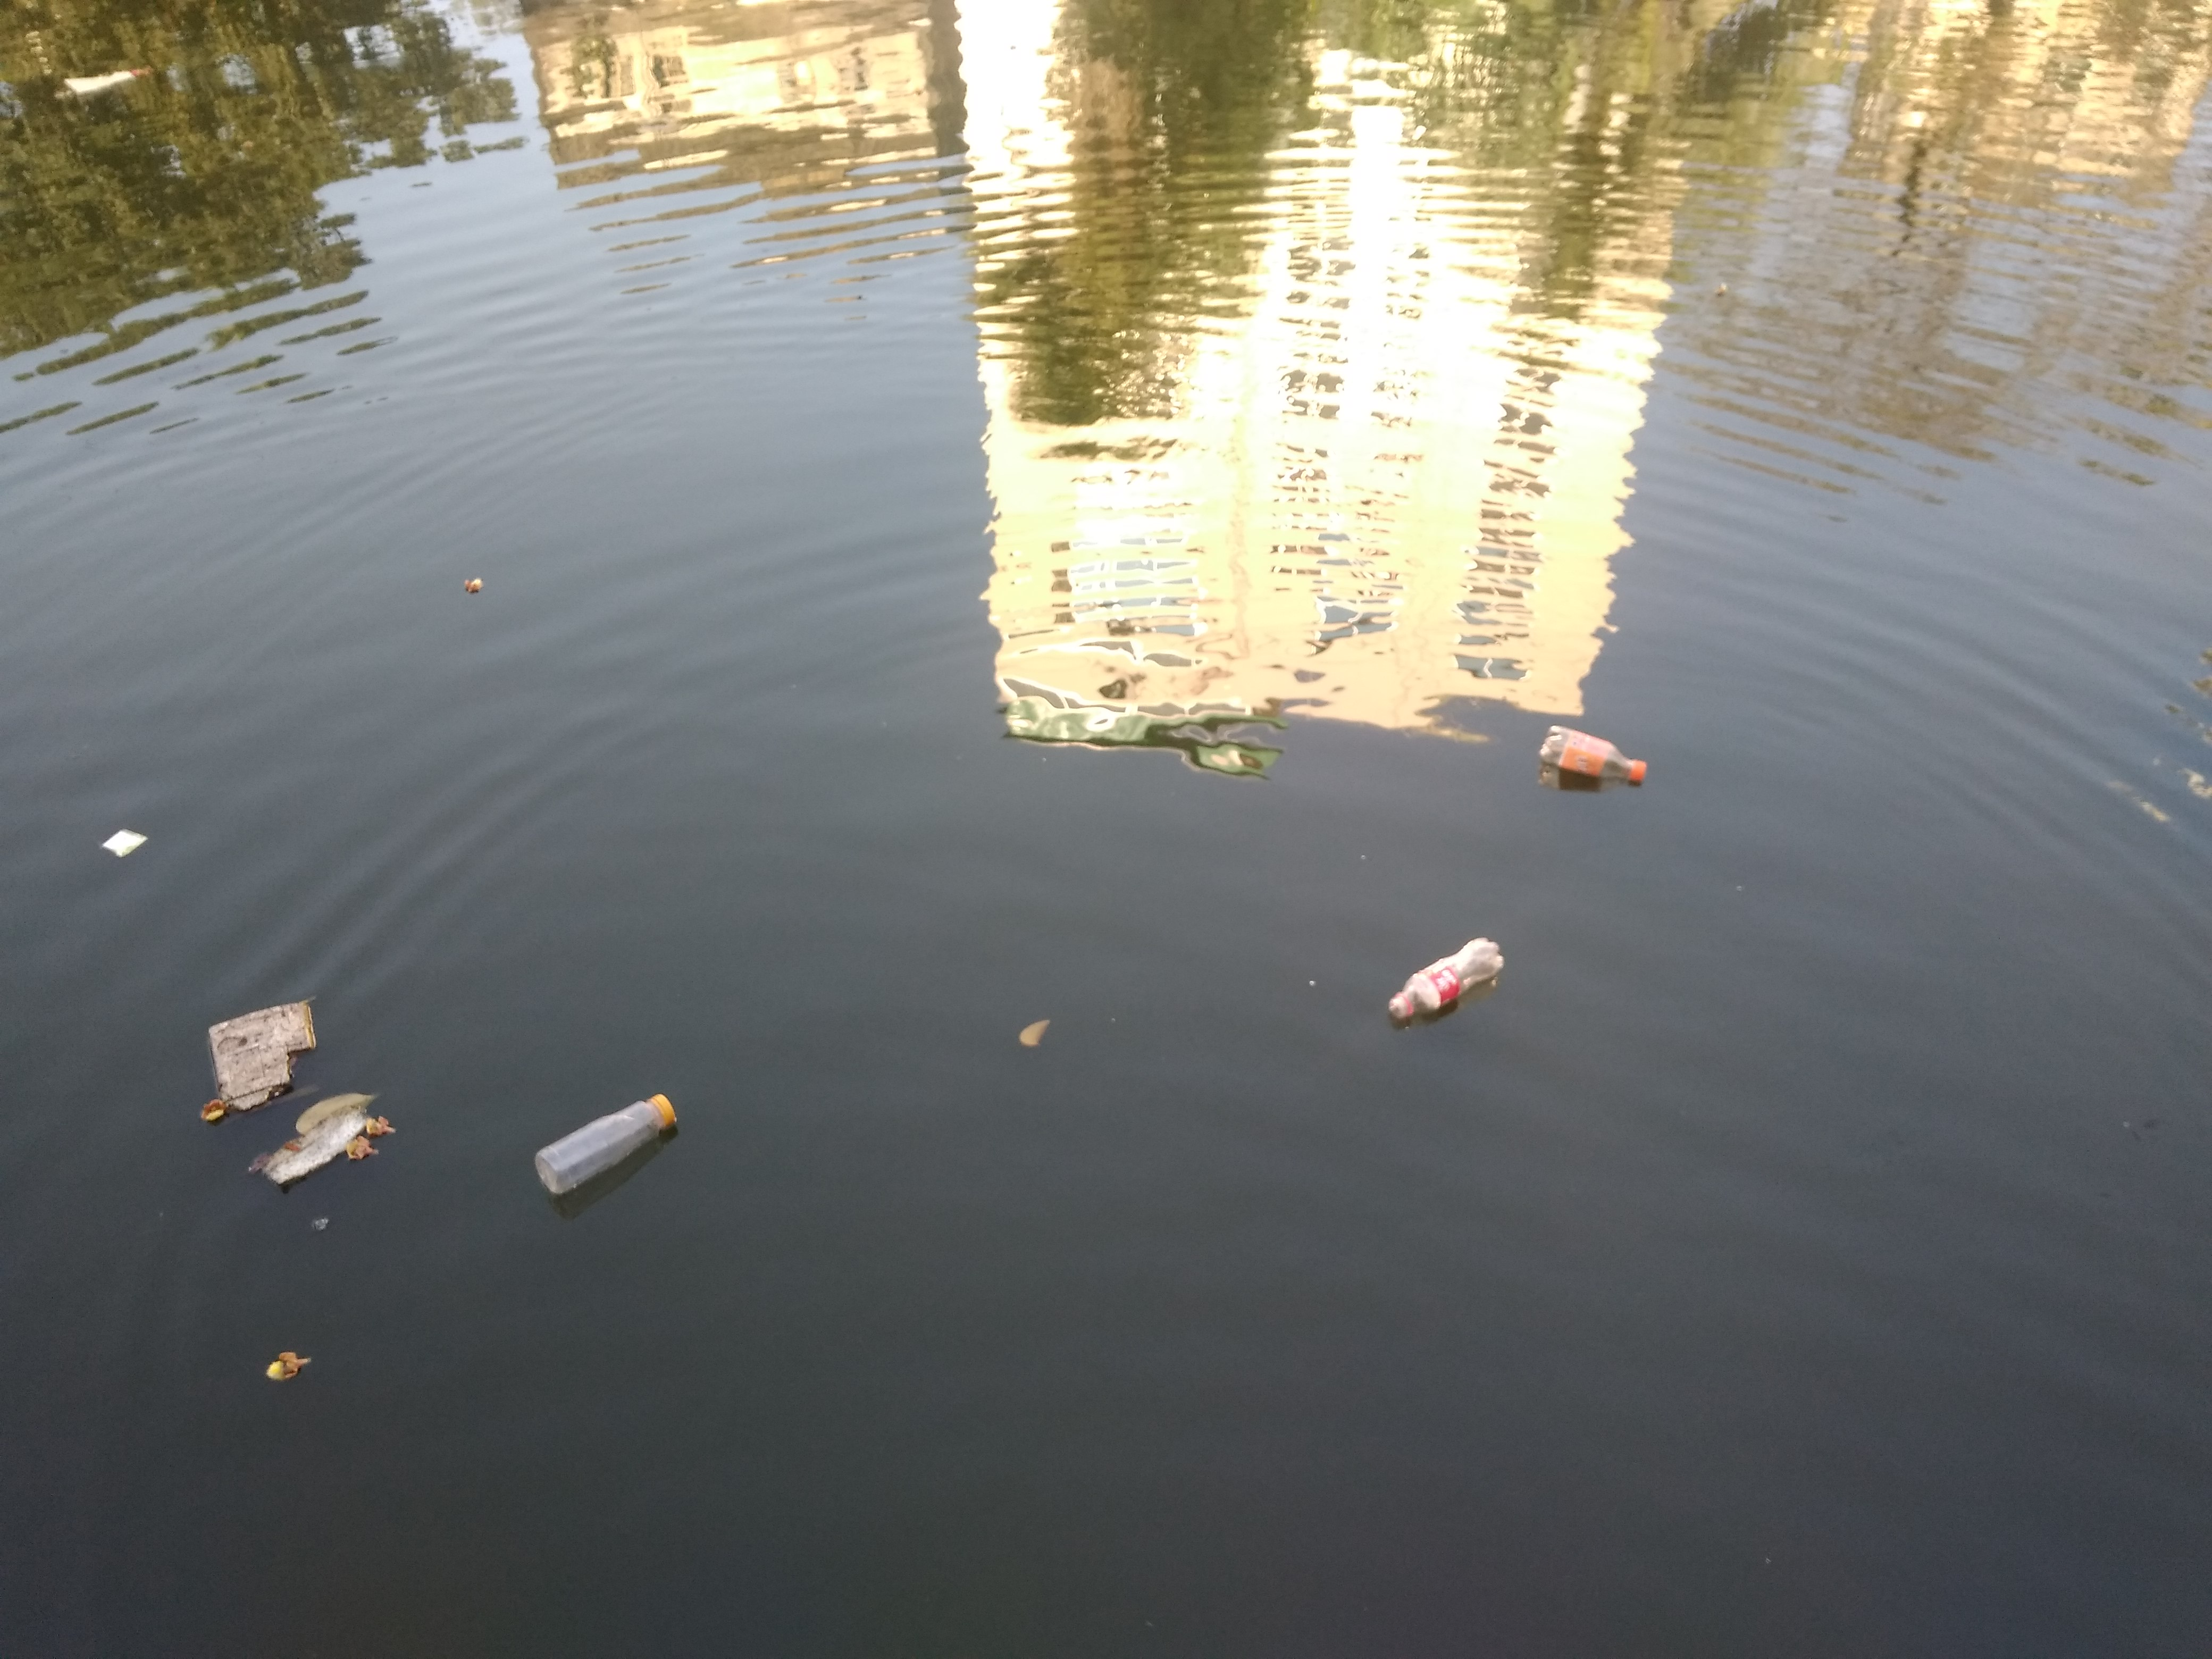Plastic Bottle: (535, 1094, 676, 1194), (1388, 938, 1503, 1019), (1540, 725, 1646, 782)
